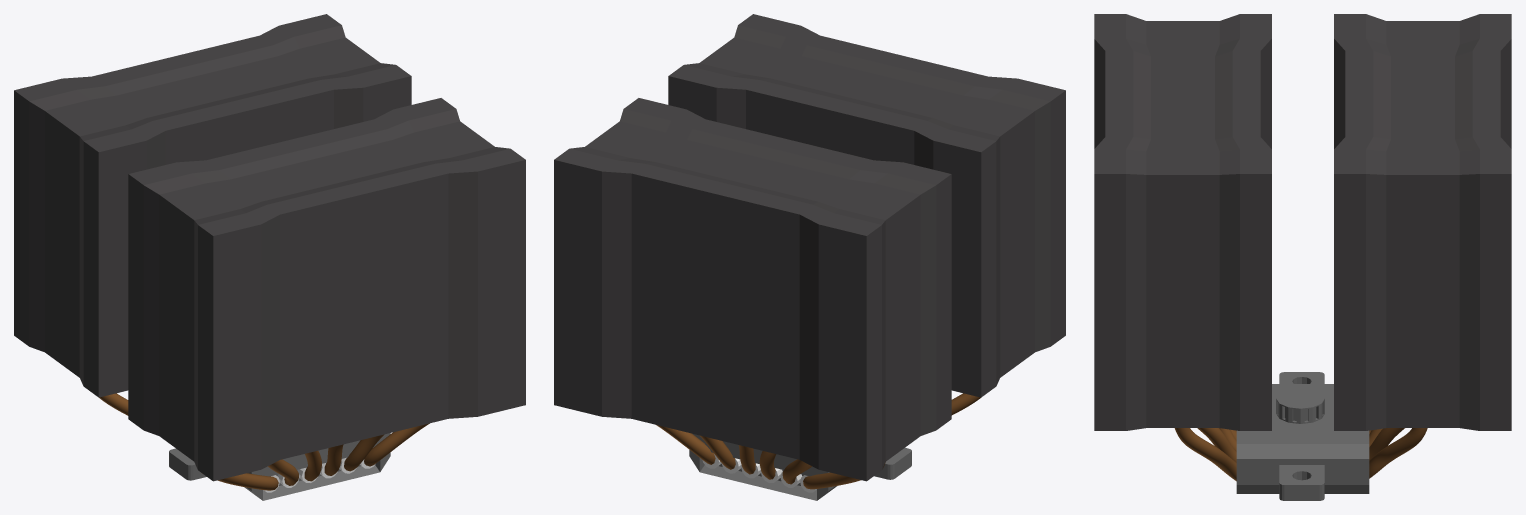
3 renders of one model, left to right at view 1: azimuth 30°, elevation 25°; view 2: azimuth 150°, elevation 25°; view 3: azimuth 270°, elevation 25°, orthographic. The views are drawn at different scales.
Visible parts, largest first — view 1: 立方體.002, 立方體, BézierCurve.005, BézierCurve, 立方體.001, BézierCurve.004; view 2: 立方體.002, 立方體, 圓柱體.001, BézierCurve.011, 立方體.001, BézierCurve.006; view 3: 立方體.002, 立方體, 立方體.001, 圓柱體, BézierCurve.005, BézierCurve.011, BézierCurve.004, BézierCurve.010.
Part boxes in pixels (bbox=[...]): 立方體.002: bbox=[14, 14, 525, 481]; 立方體: bbox=[244, 433, 390, 500]; BézierCurve.005: bbox=[364, 423, 429, 466]; BézierCurve: bbox=[202, 473, 278, 490]; 立方體.001: bbox=[169, 448, 206, 480]; BézierCurve.004: bbox=[344, 434, 384, 471]; 立方體.002: bbox=[554, 14, 1065, 481]; 立方體: bbox=[689, 433, 836, 500]; 圓柱體.001: bbox=[702, 454, 816, 492]; BézierCurve.011: bbox=[656, 425, 715, 464]; 立方體.001: bbox=[874, 447, 911, 479]; BézierCurve.006: bbox=[803, 462, 885, 489]; 立方體.002: bbox=[1094, 14, 1511, 430]; 立方體: bbox=[1236, 384, 1369, 493]; 立方體.001: bbox=[1279, 372, 1324, 500]; 圓柱體: bbox=[1276, 388, 1324, 423]; BézierCurve.005: bbox=[1174, 428, 1236, 481]; BézierCurve.011: bbox=[1369, 428, 1427, 478]; BézierCurve.004: bbox=[1197, 428, 1236, 462]; BézierCurve.010: bbox=[1369, 428, 1404, 459].
Size of the model in its own units: 303 by 318 by 334.
